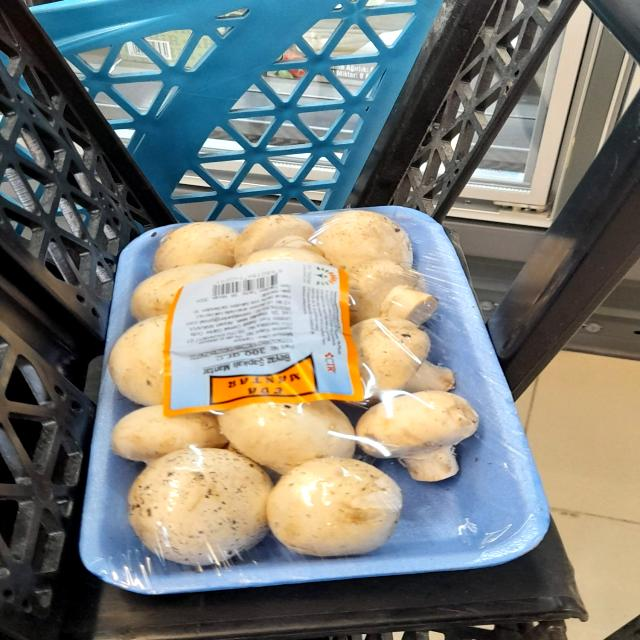mushroom: (120, 436, 270, 574), (259, 442, 405, 566), (358, 372, 488, 487), (314, 242, 460, 332)
